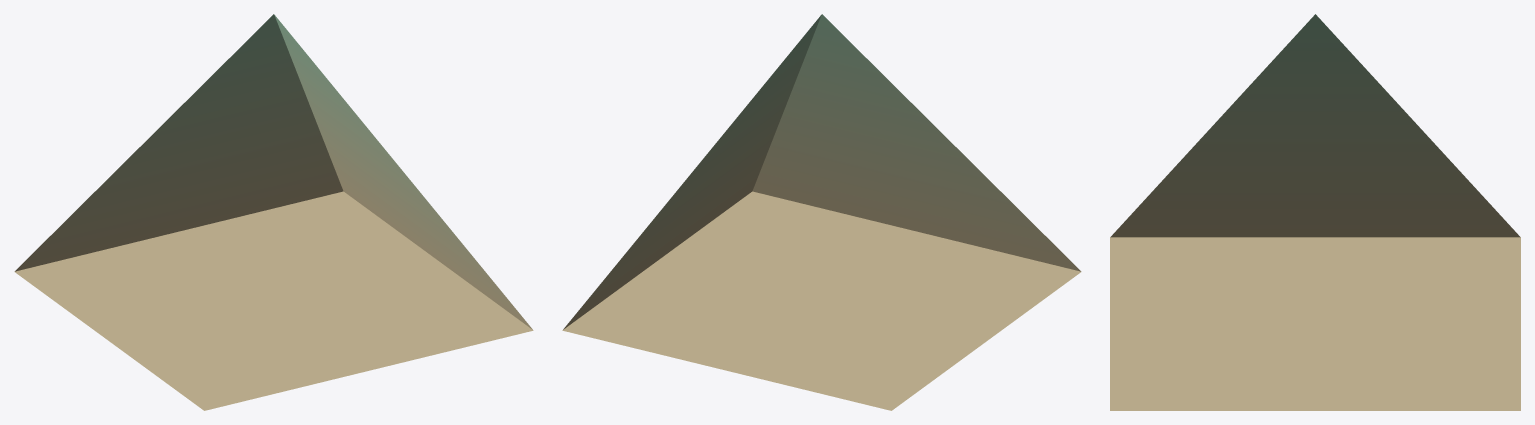
File: guava_pyramid.gltf
The picture shows the model from 3 angles, left to right: view 1: azimuth 30°, elevation 25°; view 2: azimuth 150°, elevation 25°; view 3: azimuth 270°, elevation 25°; orthographic projection. The views are drawn at different scales.
Visible parts, largest first — view 1: GuavaPyramid; view 2: GuavaPyramid; view 3: GuavaPyramid.
Part boxes in pixels (x1,y1,x2,y2): GuavaPyramid: (14,14,533,410); GuavaPyramid: (562,14,1081,410); GuavaPyramid: (1110,14,1520,410).
Bounding box in the file's own units: 1.2 × 1 × 1.2.
